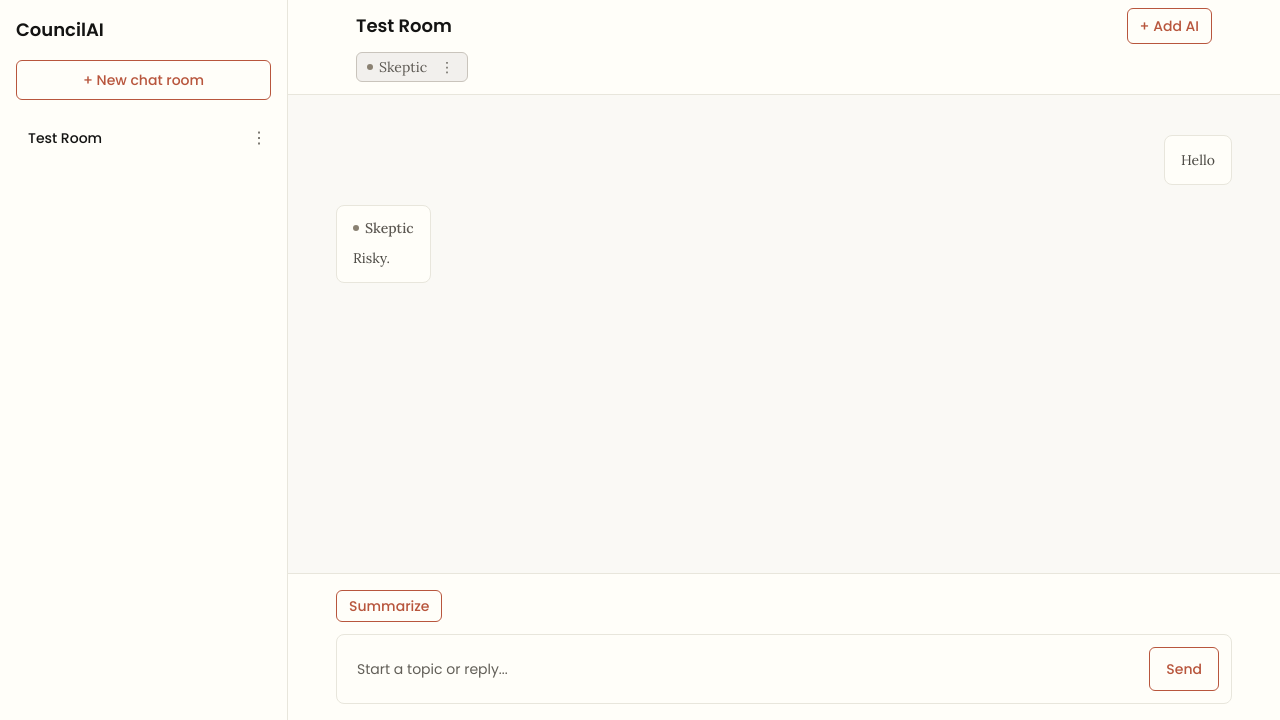
Test: ChatShell › hides Summarize after messages are cleared
Expected: the button "Summarize" is shown, [336, 590, 442, 622]
Step 1. Click the button named "Test Room options" → click(259, 138), box [247, 126, 271, 150]
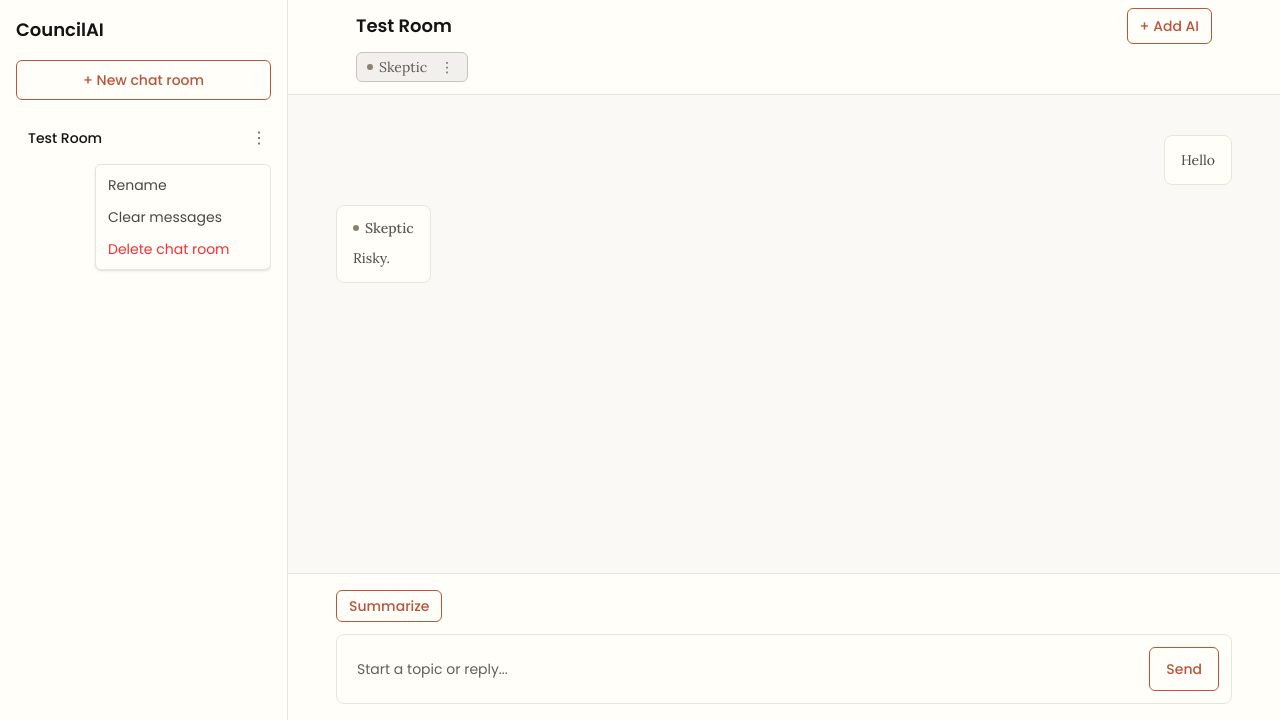
Step 2. Click the button "Clear messages" → click(183, 217), box [96, 201, 270, 233]
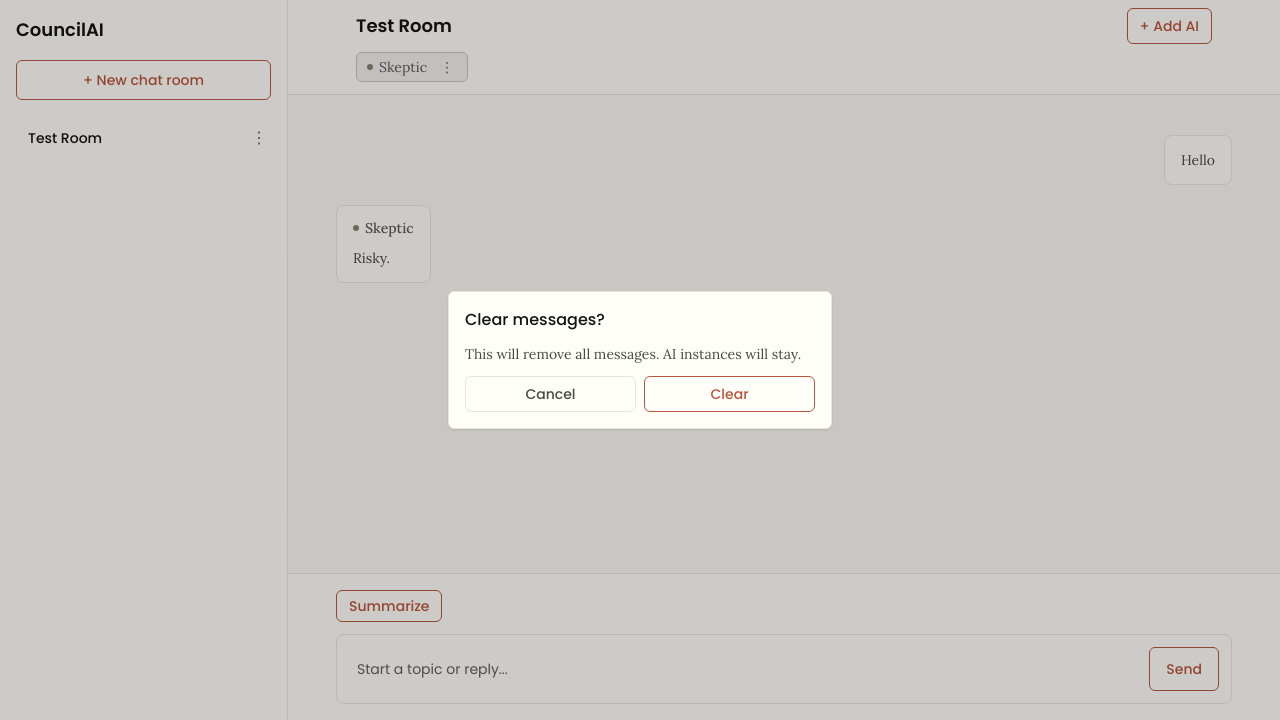
Step 3. Click the button "Clear" → click(730, 394), box [644, 376, 815, 412]
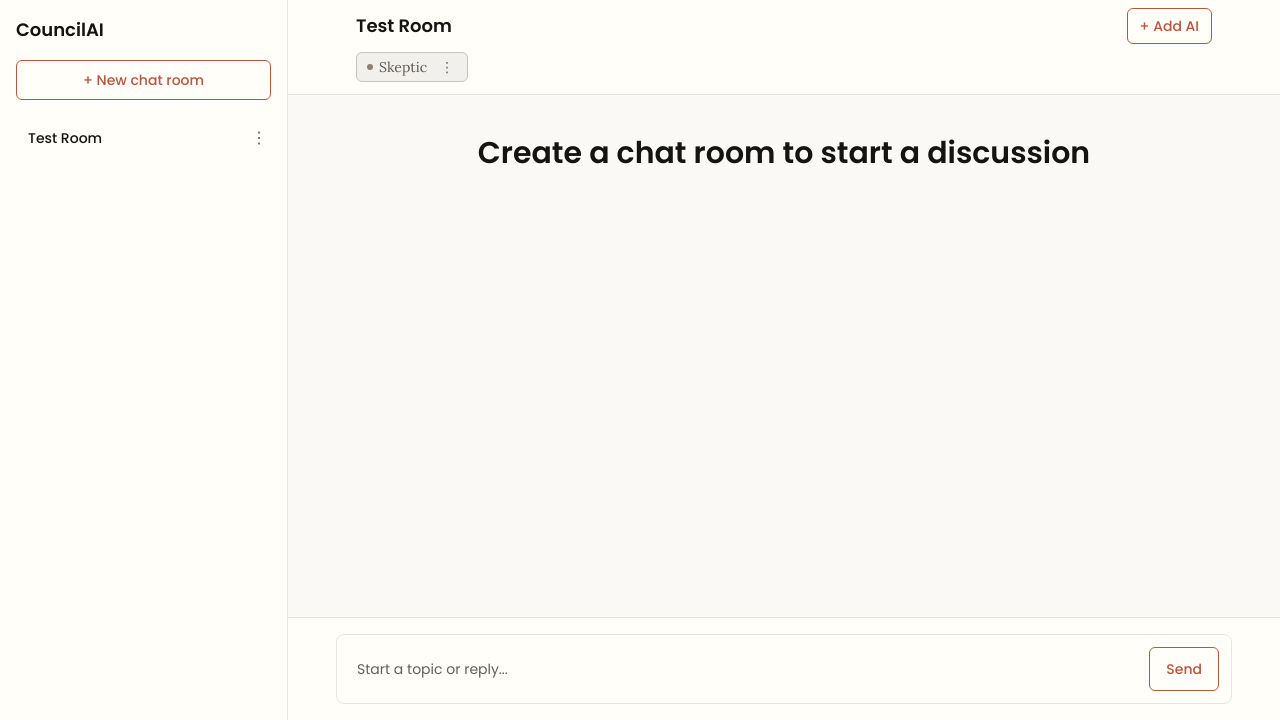
Now the button "Summarize" is gone
